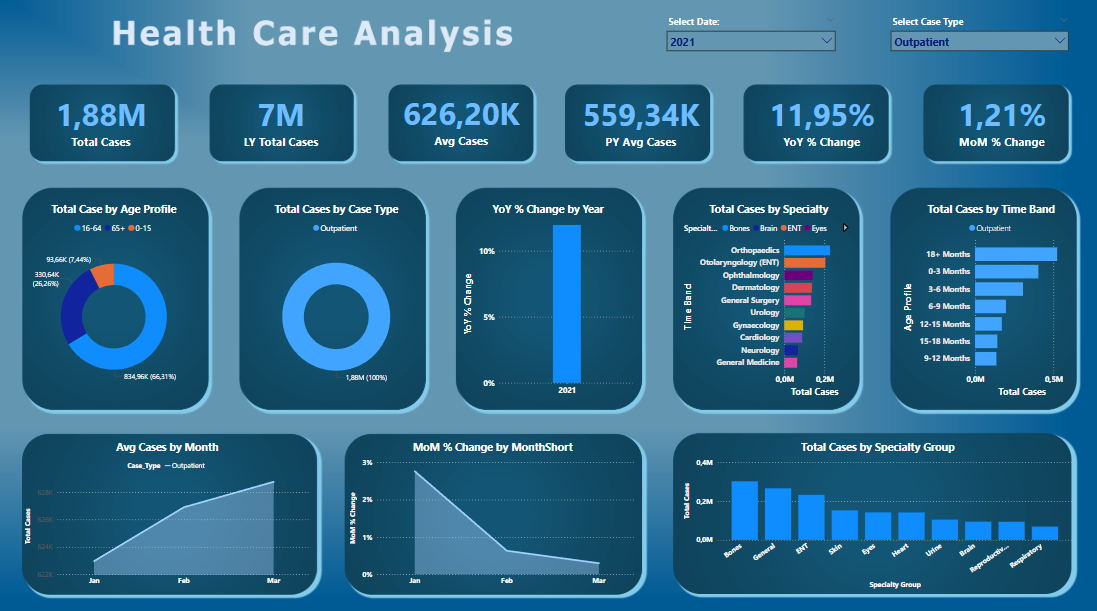

The page's visual inventory and layout, read from the dashboard file:
{"tool":"powerbi","page":{"name":"Duplicate of Page 1","canvas":[1920,1080],"ordinal":1},"visuals":[{"type":"lineChart","fields":{"Category":["DateTable.MonthShort"],"Y":["Sum(Fact_Table.Total)"],"Series":["Dim_Case_Type.Case_Type"]},"box":[460,510,627.5,240],"z":0},{"type":"donutChart","fields":{"Category":["Dim_Case_Type.Case_Type"],"Y":["Sum(Fact_Table.Total)"]},"box":[37.5,510,372.5,240],"z":1000},{"type":"barChart","fields":{"Y":["Sum(Fact_Table.Total)"],"Category":["Dim_Specialty_Name.Specialty_Name"],"Series":["Fact_Table.Specialty Group"]},"box":[1125,510,340,525],"z":2000},{"type":"pieChart","fields":{"Category":["Dim_Age_Profile.Age_Profile"],"Y":["Sum(Fact_Table.Total)"]},"box":[960,510,372.5,240],"z":3000},{"type":"barChart","fields":{"Category":["Dim_Time_Band.Time_Bands"],"Y":["Sum(Fact_Table.Total)"],"Series":["Dim_Case_Type.Case_Type"]},"box":[1522.5,510,350,525],"z":4000},{"type":"lineChart","fields":{"Y":["Measures_Table.MoM % Change"],"Category":["DateTable.MonthShort"]},"box":[460,810,627.5,230],"z":5000},{"type":"columnChart","fields":{"Category":["DateTable.Year"],"Y":["Measures_Table.YoY % Change"]},"box":[37.5,810,372.5,230],"z":6000},{"type":"columnChart","fields":{"Category":["Fact_Table.Specialty Group"],"Y":["Measures_Table.TotalCases"]},"box":[1125,157.5,747.5,275],"z":7000},{"type":"slicer","fields":{"Values":["Dim_Case_Type.Case_Type"]},"box":[1125,17.5,747.5,97.5],"z":8000},{"type":"card","fields":{"Values":["Measures_Table.TotalCases"]},"box":[37.5,20,277.5,172.5],"z":9000},{"type":"card","fields":{"Values":["Measures_Table.YoY % Change"]},"box":[390,260,262.5,172.5],"z":10000},{"type":"card","fields":{"Values":["Measures_Table.TotalCasesLY"]},"box":[390,25,262.5,177.5],"z":11000},{"type":"card","fields":{"Values":["Measures_Table.MoM % Change"]},"box":[37.5,255,277.5,177.5],"z":12000},{"type":"card","fields":{"Values":["Measures_Table.Average Cases"]},"box":[697.5,255,262.5,177.5],"z":13000},{"type":"slicer","fields":{"Values":["DateTable.Year"]},"box":[1090,157.5,747.5,97.5],"z":14000}]}

Visuals, with their boxes in screenshot pixels (x1, y1, x2, y2), scaled from the page's 1920x1080 canvas onto the 1097x611 screenshot:
lineChart - DateTable.MonthShort x Sum(Fact_Table.Total): crop(263, 289, 621, 424)
donutChart - Dim_Case_Type.Case_Type x Sum(Fact_Table.Total): crop(21, 289, 234, 424)
barChart - Sum(Fact_Table.Total) x Dim_Specialty_Name.Specialty_Name: crop(643, 289, 837, 586)
pieChart - Dim_Age_Profile.Age_Profile x Sum(Fact_Table.Total): crop(548, 289, 761, 424)
barChart - Dim_Time_Band.Time_Bands x Sum(Fact_Table.Total): crop(870, 289, 1070, 586)
lineChart - Measures_Table.MoM % Change x DateTable.MonthShort: crop(263, 458, 621, 588)
columnChart - DateTable.Year x Measures_Table.YoY % Change: crop(21, 458, 234, 588)
columnChart - Fact_Table.Specialty Group x Measures_Table.TotalCases: crop(643, 89, 1070, 245)
slicer - Dim_Case_Type.Case_Type: crop(643, 10, 1070, 65)
card - Measures_Table.TotalCases: crop(21, 11, 180, 109)
card - Measures_Table.YoY % Change: crop(223, 147, 373, 245)
card - Measures_Table.TotalCasesLY: crop(223, 14, 373, 115)
card - Measures_Table.MoM % Change: crop(21, 144, 180, 245)
card - Measures_Table.Average Cases: crop(399, 144, 548, 245)
slicer - DateTable.Year: crop(623, 89, 1050, 144)
